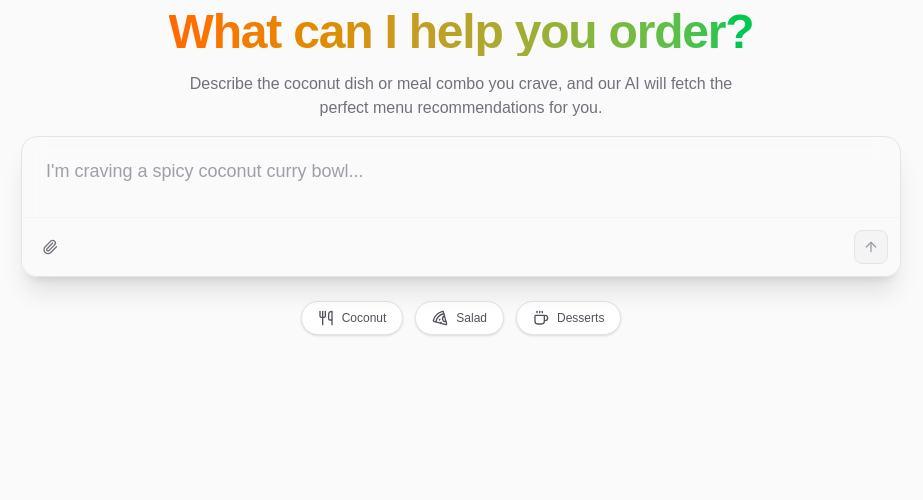
it: VercelV0Chat › shows an error message when the request fails
Type "tacos" into the text box with placeholder "I'm craving a spicy coconut curry bowl..." at (461, 177), box [22,137,900,217]
Then press Enter
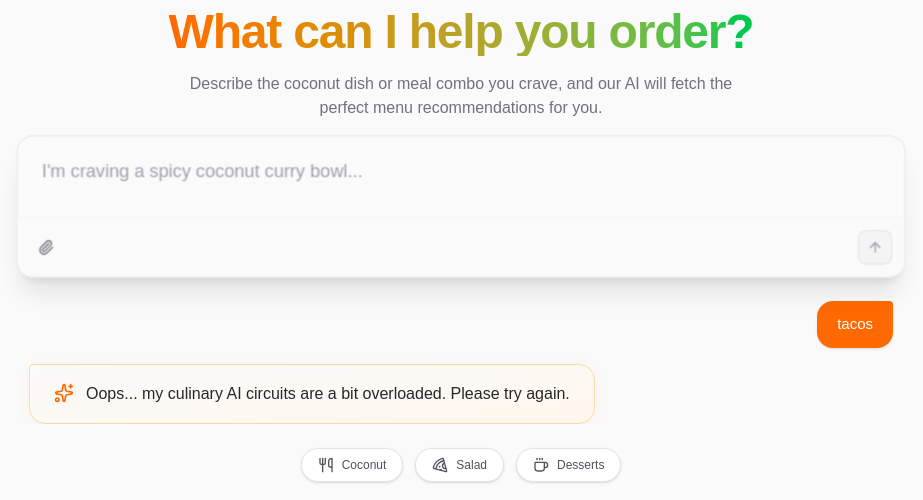
Result: the text "culinary AI circuits are a bit overloaded" is shown at [86,384,570,402]
